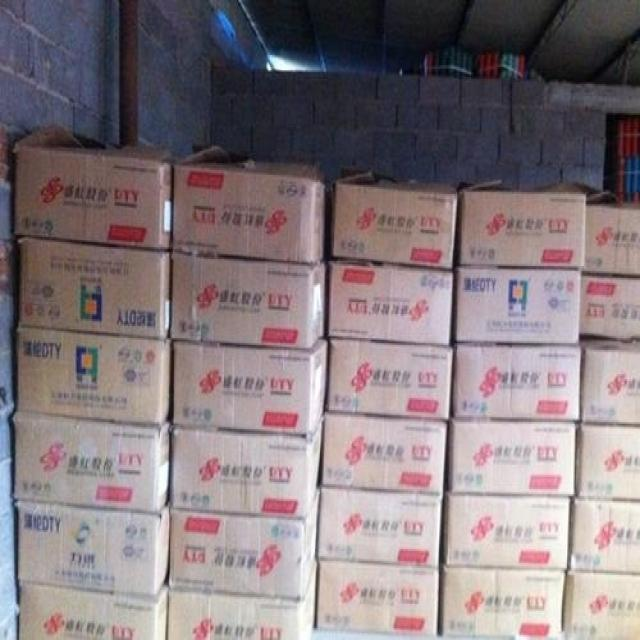box: (11, 124, 184, 251), (170, 142, 331, 266), (168, 487, 320, 599), (171, 333, 330, 438), (13, 321, 171, 424), (170, 251, 331, 351), (13, 409, 171, 510), (16, 236, 172, 338), (169, 418, 324, 518), (12, 502, 170, 596), (327, 171, 458, 270), (454, 179, 586, 270), (167, 561, 317, 637), (325, 336, 454, 421), (330, 259, 455, 345), (445, 418, 576, 498), (319, 413, 447, 494), (441, 493, 572, 570), (449, 345, 581, 421), (316, 488, 444, 566), (454, 268, 581, 344), (19, 573, 167, 638), (316, 560, 441, 635), (440, 566, 567, 638), (563, 568, 639, 638), (574, 420, 638, 502), (580, 341, 639, 424), (570, 501, 638, 572), (581, 192, 639, 275), (577, 272, 639, 343)
